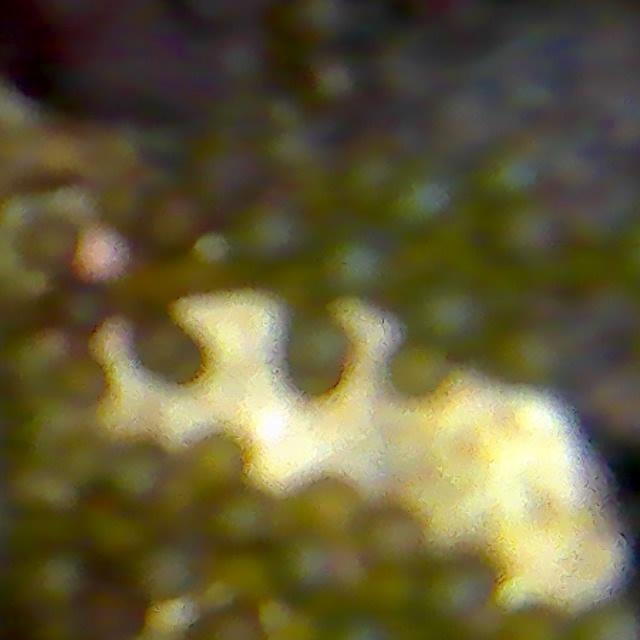SeaGrape: (6, 207, 83, 284), (321, 234, 396, 305), (283, 319, 353, 395), (300, 471, 379, 538), (490, 317, 563, 387), (36, 351, 116, 414), (382, 178, 450, 248), (423, 277, 490, 347), (463, 148, 542, 207), (577, 279, 640, 351), (285, 0, 358, 59), (136, 314, 203, 377), (123, 194, 193, 254), (190, 424, 250, 494), (426, 560, 493, 622), (385, 340, 449, 403), (236, 201, 293, 271), (137, 542, 201, 604), (26, 550, 91, 611), (211, 490, 272, 550), (503, 201, 556, 268), (367, 510, 425, 569), (108, 444, 165, 503), (91, 506, 148, 563), (220, 551, 275, 606), (367, 567, 420, 618), (154, 469, 203, 521), (310, 62, 360, 107)
